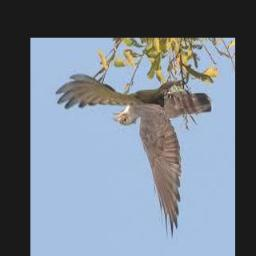Cuckoo: (56, 76, 212, 240)
